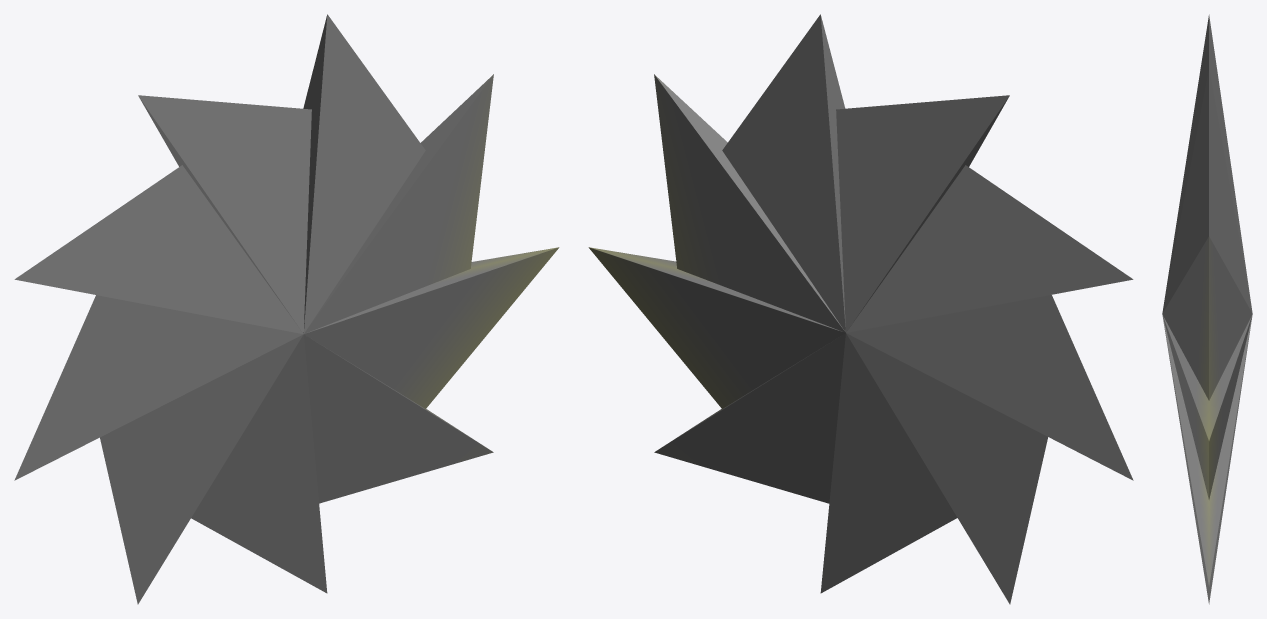
File: DecorationSaw.FBX
The picture shows the model from 3 angles, left to right: view 1: azimuth 30°, elevation 25°; view 2: azimuth 150°, elevation 25°; view 3: azimuth 270°, elevation 25°; orthographic projection. The views are drawn at different scales.
Parts seen in each view (by area): view 1: Cylinder017; view 2: Cylinder017; view 3: Cylinder017.
Boxes of the visible parts, x1,y1,x2,y2 form: Cylinder017: [14, 14, 559, 604]; Cylinder017: [588, 14, 1133, 604]; Cylinder017: [1162, 14, 1252, 604].
Size of the model in its own units: 128 by 130 by 19.81.
1 material, 1 textured.
